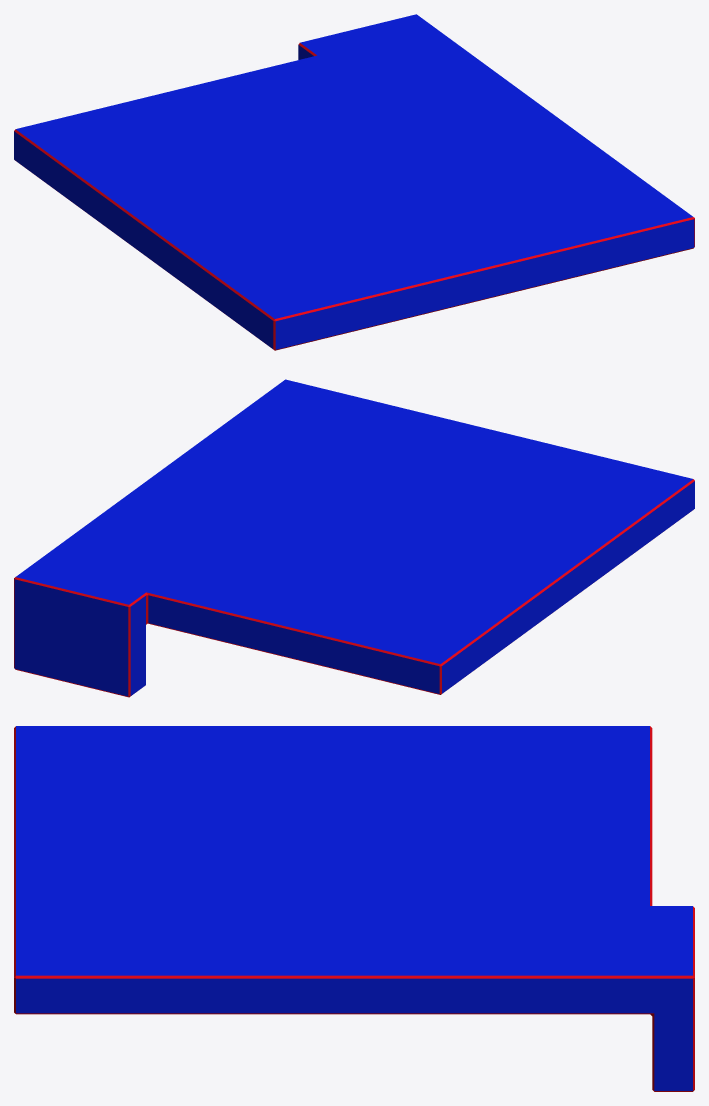
File: L5_Square_Entry.fbx
3 renders of one model, top to bottom at view 1: azimuth 30°, elevation 25°; view 2: azimuth 150°, elevation 25°; view 3: azimuth 270°, elevation 25°, orthographic. The views are drawn at different scales.
Parts seen in each view (by area): view 1: L5_Square_Entry; view 2: L5_Square_Entry; view 3: L5_Square_Entry.
Part boxes in pixels (left/top/right/bottom): L5_Square_Entry: left=14, top=14, right=694, bottom=350; L5_Square_Entry: left=14, top=379, right=694, bottom=697; L5_Square_Entry: left=14, top=726, right=694, bottom=1091.
Bounding box in the file's own units: 1392 × 300 × 1594.
